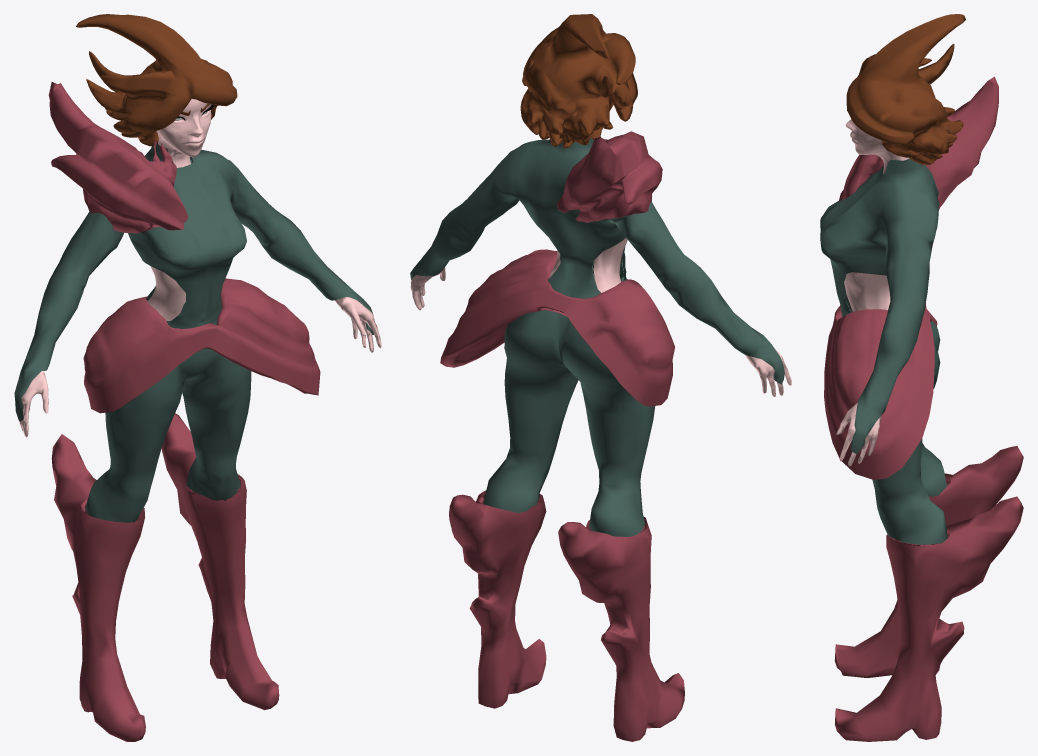
The model's file is Zmisin para mixamo LMAO.fbx.
3 renders of one model, left to right at view 1: azimuth 30°, elevation 25°; view 2: azimuth 150°, elevation 25°; view 3: azimuth 270°, elevation 25°, orthographic. The views are drawn at different scales.
Visible parts, largest first — view 1: traje, botas, falda, hombrerahongo, cabello, cuerpo; view 2: traje, botas, falda, cabello, hombrerahongo, cuerpo; view 3: botas, traje, falda, cabello, hombrerahongo, cuerpo.
Part boxes in pixels (x1,y1,x2,y2): traje: [14, 143, 373, 522]; botas: [51, 413, 279, 741]; falda: [83, 278, 320, 413]; hombrerahongo: [48, 82, 188, 233]; cabello: [76, 14, 237, 146]; cuerpo: [19, 99, 381, 437]; traje: [410, 138, 784, 536]; botas: [449, 490, 684, 741]; falda: [440, 249, 674, 406]; cabello: [520, 14, 637, 148]; hombrerahongo: [556, 131, 662, 222]; cuerpo: [410, 238, 791, 396]; botas: [834, 446, 1023, 741]; traje: [820, 158, 947, 544]; falda: [824, 303, 937, 479]; cabello: [846, 14, 965, 165]; hombrerahongo: [838, 76, 998, 209]; cuerpo: [836, 119, 909, 466].
Bounding box in the file's own units: 17 × 31.18 × 8.57.
